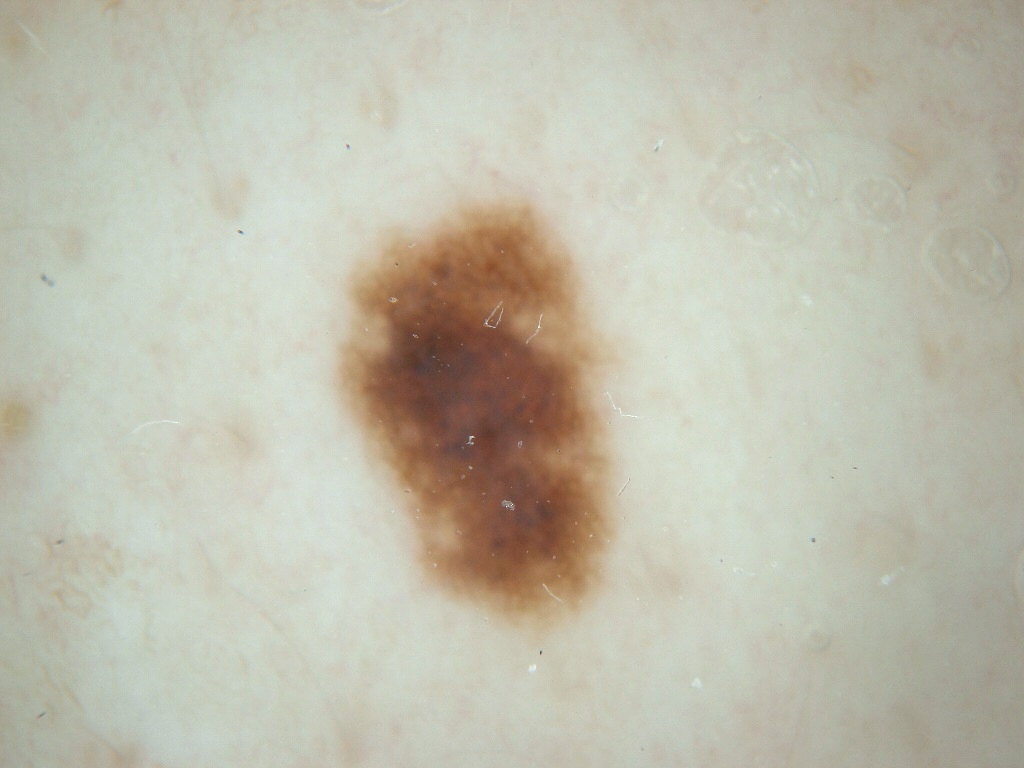Detected Lesion: (327, 202, 632, 644)
